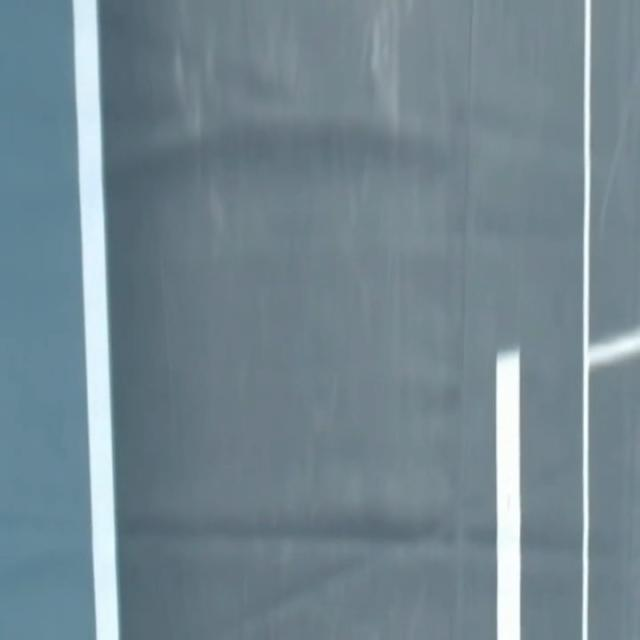center: (497, 349, 520, 639)
left: (73, 0, 119, 639)
